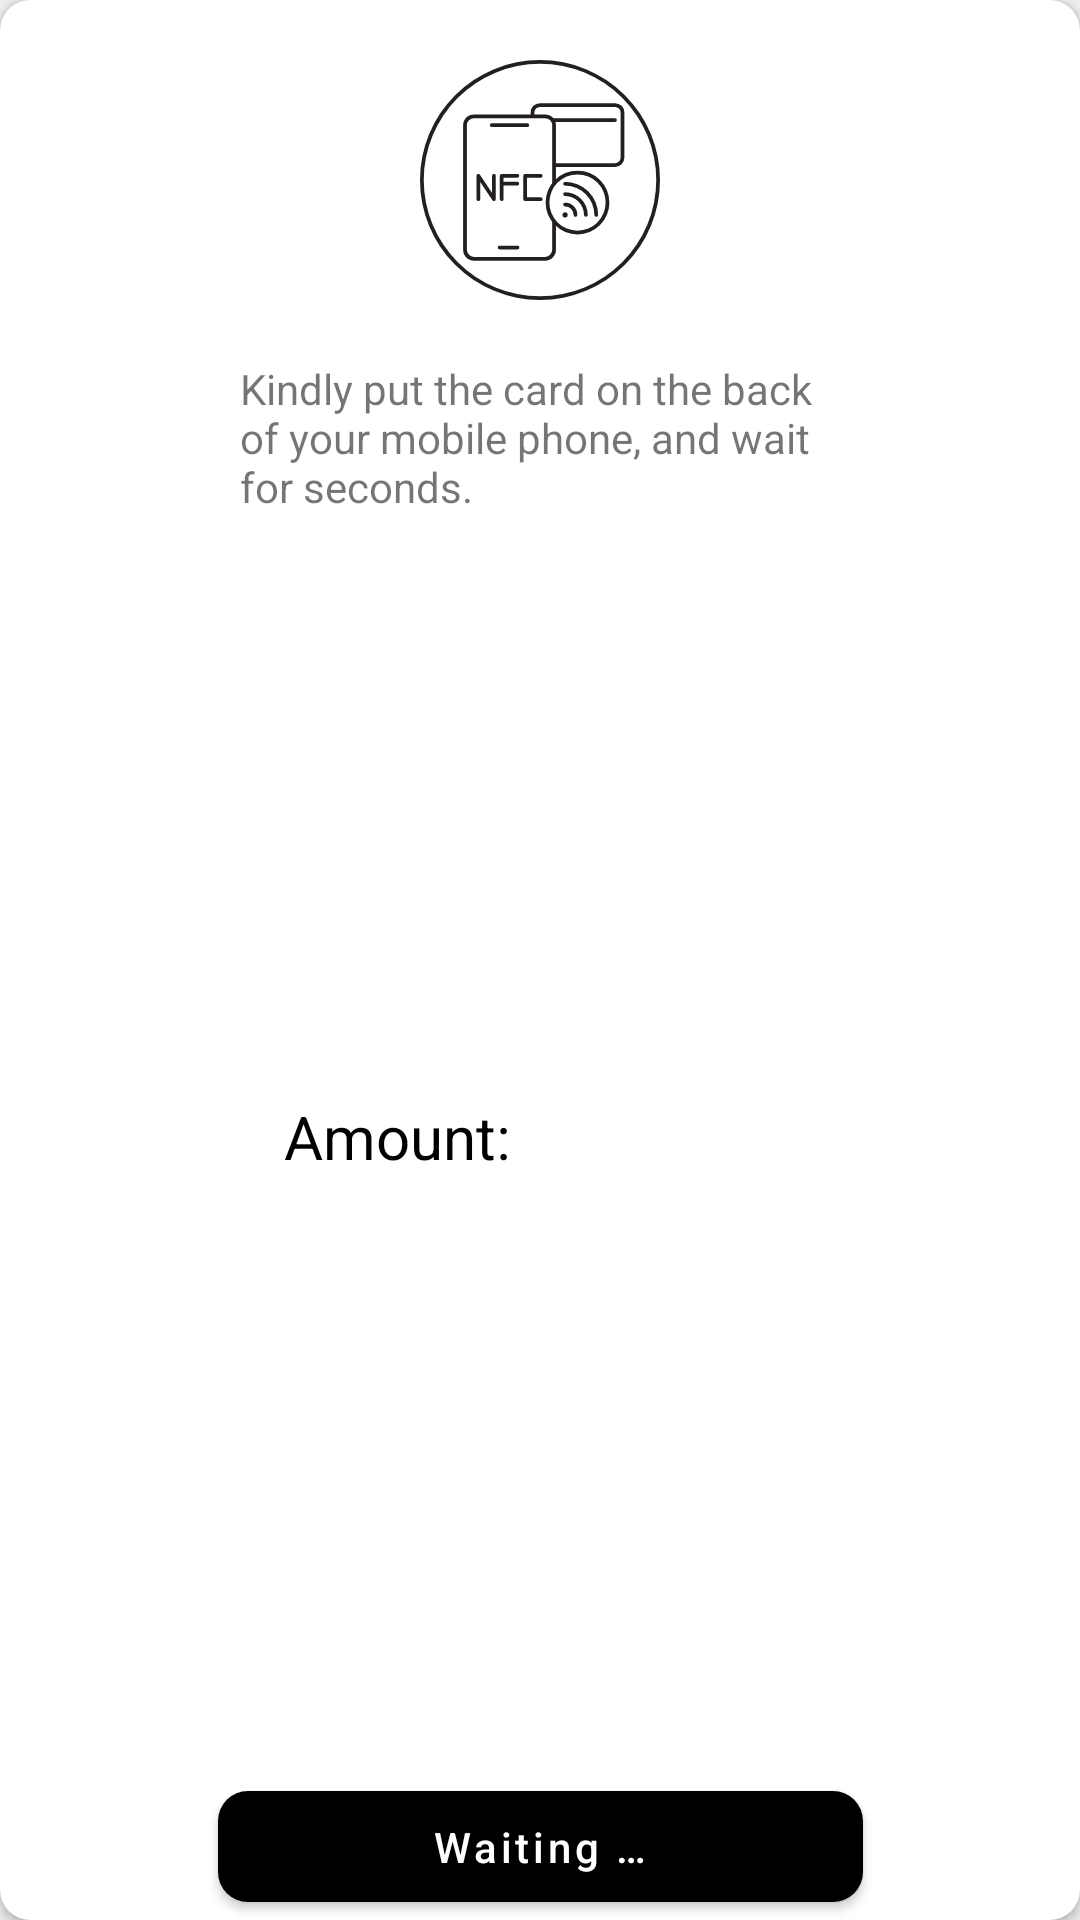

Named icons in this screenshot (1080px x 1920px) and their bounding boxes, (x1, y1, x2, y2):
Mobile with card on its back for NFC payment: (420, 60, 660, 300)
